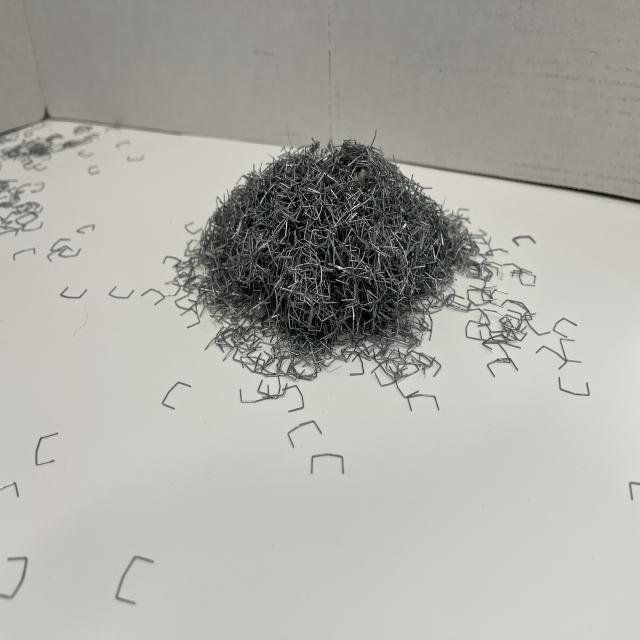staples: (166, 130, 482, 366)
